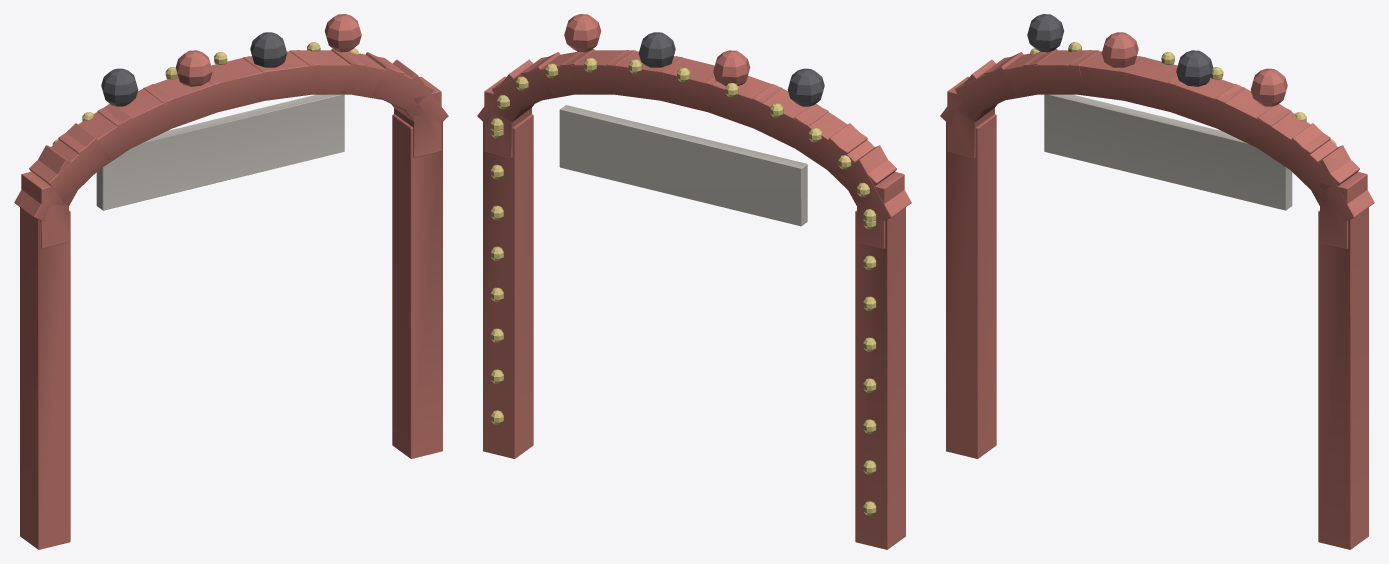
The model's file is games_marquee_low.glb.
3 views of the same model, side by side, from view 1: azimuth 30°, elevation 25°; view 2: azimuth 150°, elevation 25°; view 3: azimuth 330°, elevation 25° (orthographic).
Size of the model in its own units: 4.45 by 4.63 by 0.4551.
